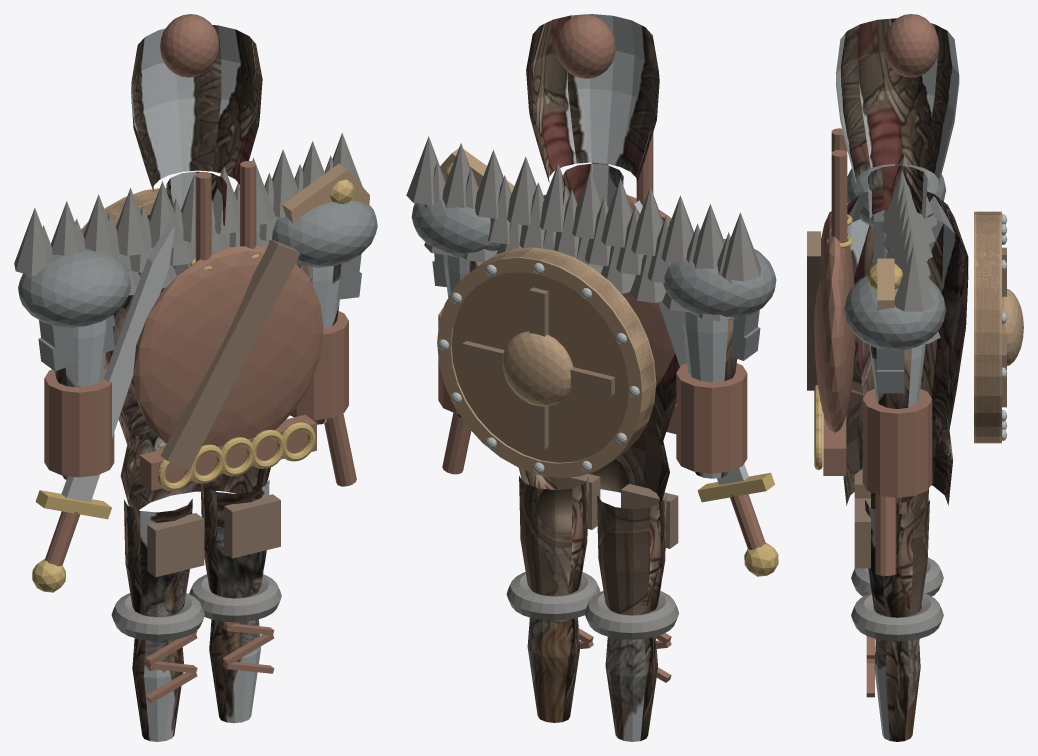
The model's file is Yggdrasil_Viking_Jarl.glb.
The picture shows the model from 3 angles, left to right: view 1: azimuth 30°, elevation 25°; view 2: azimuth 150°, elevation 25°; view 3: azimuth 270°, elevation 25°; orthographic projection. The views are drawn at different scales.
Parts seen in each view (by area): view 1: Viking_LeatherVest, Head, Viking_CrossStrap, Viking_Shoulder_L, Viking_Bracer_-1, Viking_Shoulder_R, Viking_SwordBlade, Thigh_L, Thigh_R, Shin_R, Viking_Bracer_1, Shin_L (+36 smaller); view 2: VikingBack_ShieldWood, Head, VikingBack_ShieldRim, Thigh_R, Thigh_L, Viking_Bracer_-1, Viking_Shoulder_L, Shin_R, Shin_L, VikingBack_ShieldBoss, Pelvis, Viking_Shoulder_R (+38 smaller); view 3: Head, Torso, Viking_Bracer_1, Viking_LeatherVest, VikingBack_ShieldWood, Thigh_R, Viking_Shoulder_R, Shin_R, VikingBack_ShieldRim, Pelvis, Viking_HairKnot, Viking_BootFur_1 (+22 smaller).
Boxes of the visible parts, x1=… form: Viking_LeatherVest: x1=133, y1=246, x2=323, y2=446; Head: x1=131, y1=25, x2=262, y2=191; Viking_CrossStrap: x1=160, y1=239, x2=300, y2=469; Viking_Shoulder_L: x1=18, y1=248, x2=130, y2=327; Viking_Bracer_-1: x1=44, y1=368, x2=114, y2=477; Viking_Shoulder_R: x1=268, y1=200, x2=377, y2=267; Viking_SwordBlade: x1=61, y1=221, x2=174, y2=502; Thigh_L: x1=124, y1=498, x2=192, y2=616; Thigh_R: x1=200, y1=479, x2=269, y2=598; Shin_R: x1=209, y1=619, x2=260, y2=723; Viking_Bracer_1: x1=290, y1=311, x2=348, y2=420; Shin_L: x1=132, y1=638, x2=183, y2=741; VikingBack_ShieldWood: x1=451, y1=248, x2=654, y2=462; Head: x1=526, y1=14, x2=659, y2=183; VikingBack_ShieldRim: x1=437, y1=247, x2=656, y2=477; Thigh_R: x1=519, y1=476, x2=588, y2=596; Thigh_L: x1=597, y1=495, x2=666, y2=615; Viking_Bracer_-1: x1=676, y1=363, x2=747, y2=473; Viking_Shoulder_L: x1=663, y1=239, x2=776, y2=319; Shin_R: x1=527, y1=617, x2=580, y2=722; Shin_L: x1=605, y1=636, x2=658, y2=741; VikingBack_ShieldBoss: x1=502, y1=331, x2=573, y2=406; Pelvis: x1=519, y1=419, x2=669, y2=503; Viking_Shoulder_R: x1=411, y1=187, x2=500, y2=257; Head: x1=836, y1=18, x2=959, y2=184; Torso: x1=846, y1=191, x2=968, y2=439; Viking_Bracer_1: x1=862, y1=389, x2=932, y2=497; Viking_LeatherVest: x1=814, y1=211, x2=855, y2=432; VikingBack_ShieldWood: x1=976, y1=211, x2=999, y2=443; Thigh_R: x1=865, y1=500, x2=929, y2=617; Viking_Shoulder_R: x1=844, y1=275, x2=946, y2=350; Shin_R: x1=874, y1=639, x2=920, y2=741; VikingBack_ShieldRim: x1=974, y1=211, x2=1001, y2=443; Pelvis: x1=843, y1=400, x2=952, y2=505; Viking_HairKnot: x1=883, y1=14, x2=939, y2=77; Viking_BootFur_1: x1=851, y1=593, x2=943, y2=641.
Size of the model in its own units: 1.72 by 3.33 by 0.935.
Materials: 9 (1 with a texture image).
